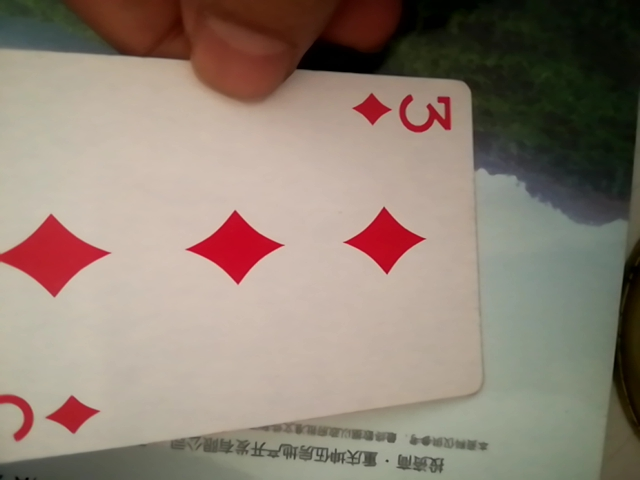fk 3: (3, 36, 497, 461)
